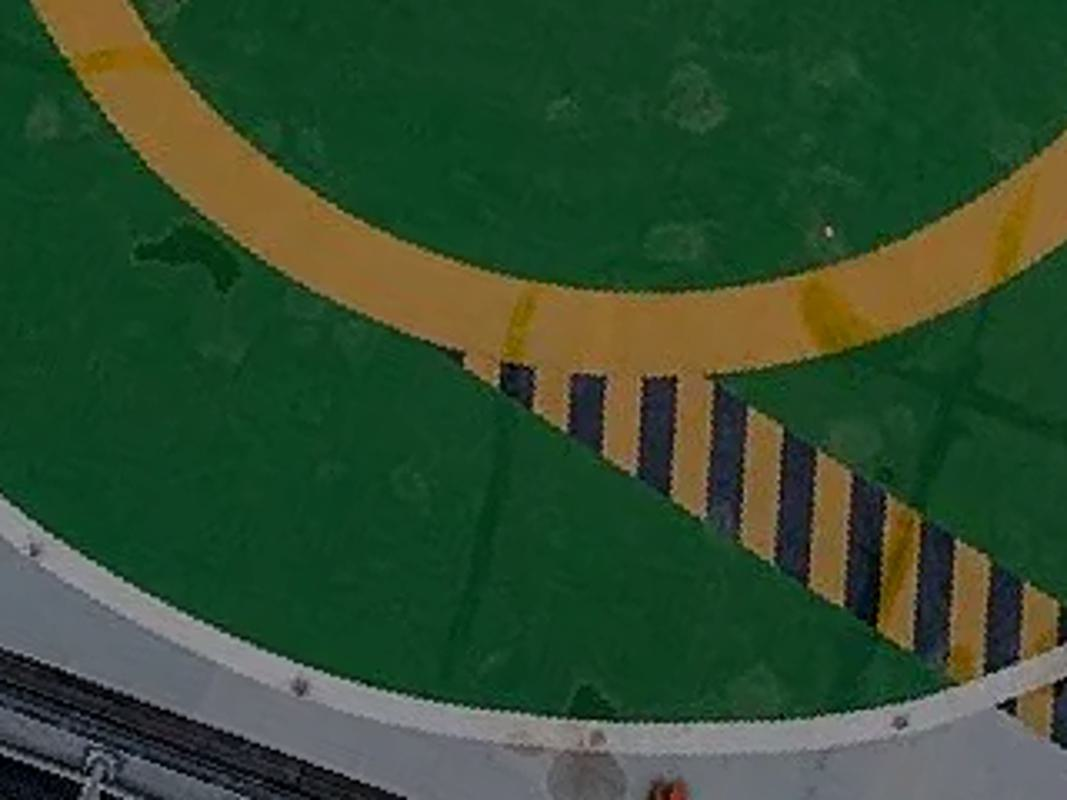Apron: (52, 1, 1011, 323)
